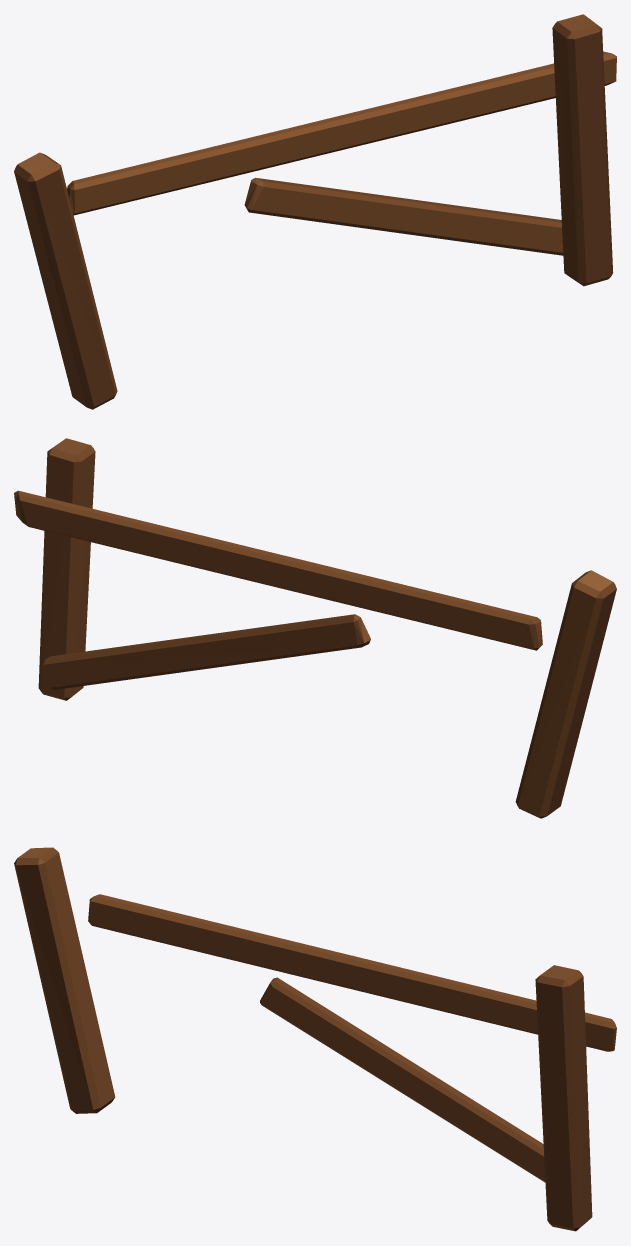
File: SM_WOOD_FENCE_02.fbx
3 views of the same model, one above another, from view 1: azimuth 30°, elevation 25°; view 2: azimuth 150°, elevation 25°; view 3: azimuth 330°, elevation 25° (orthographic). The views are drawn at different scales.
Parts seen in each view (by area): view 1: WOOD_FENCE_02; view 2: WOOD_FENCE_02; view 3: WOOD_FENCE_02.
Part boxes in pixels (x1,y1,x2,y2): WOOD_FENCE_02: (14,14,616,409); WOOD_FENCE_02: (14,438,616,818); WOOD_FENCE_02: (14,847,616,1231).
Bounding box in the file's own units: 2.46 × 0.1959 × 1.01.
